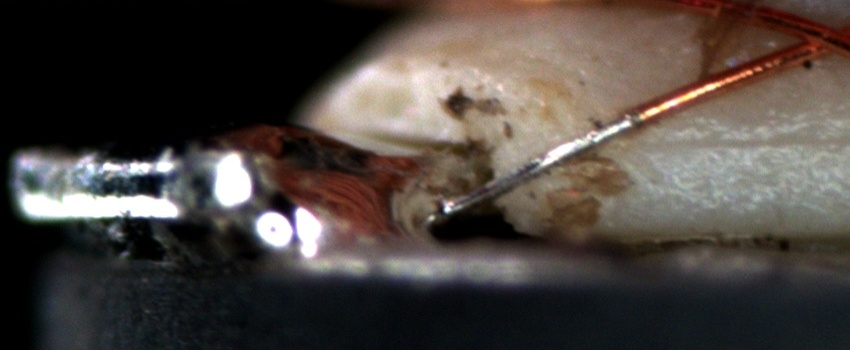CL: (773, 9, 848, 63)
DL: (618, 110, 850, 174)
TS: (440, 112, 640, 216)
